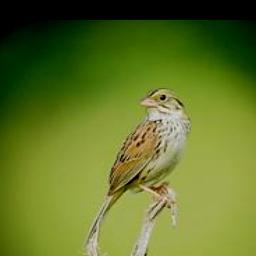Sparrow: (102, 84, 192, 228)
